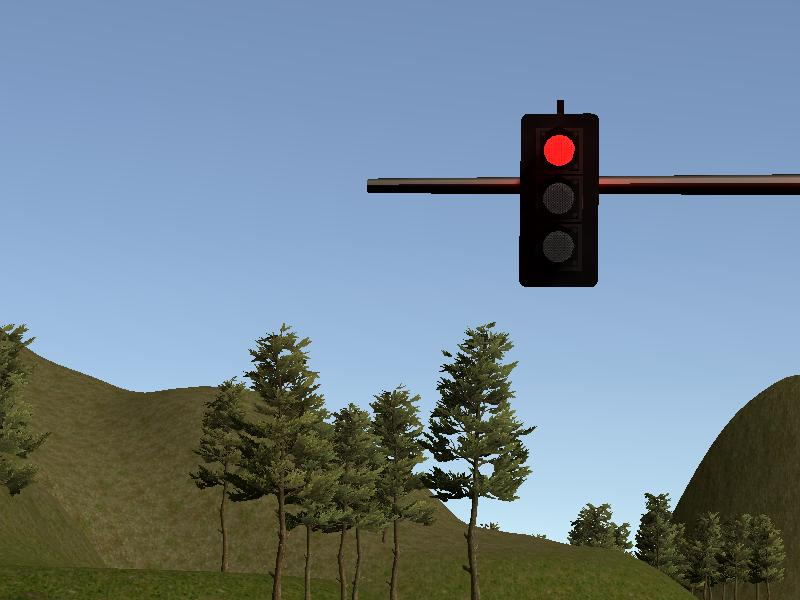Red: (521, 112, 599, 285)
